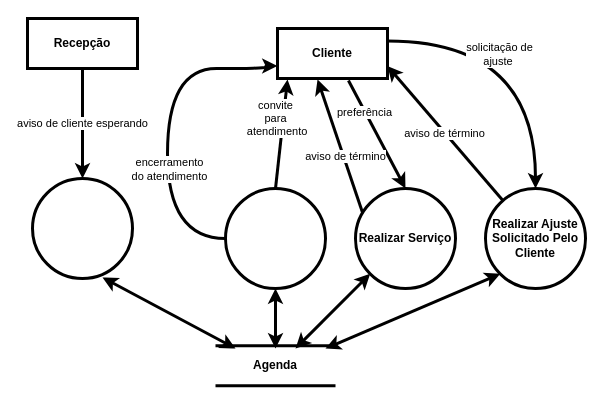
The diagram is 604 pixels wide and 406 high, and some of its shapes have lost their labels. Each missing label, with the centre of its shape:
Chamar Cliente Para Realização De Serviço: the point at 275,238
Receber Aviso De Cliente Aguardando: the point at 82,228
